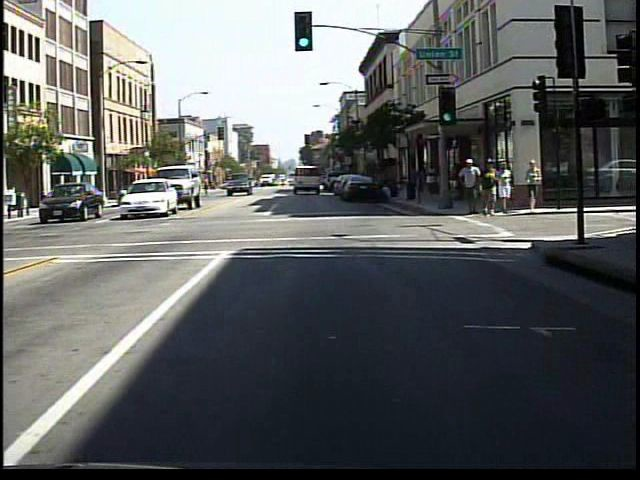person: (478, 157, 503, 220), (460, 158, 484, 218), (523, 157, 544, 216), (498, 160, 515, 217), (424, 159, 442, 206), (200, 173, 217, 202)
